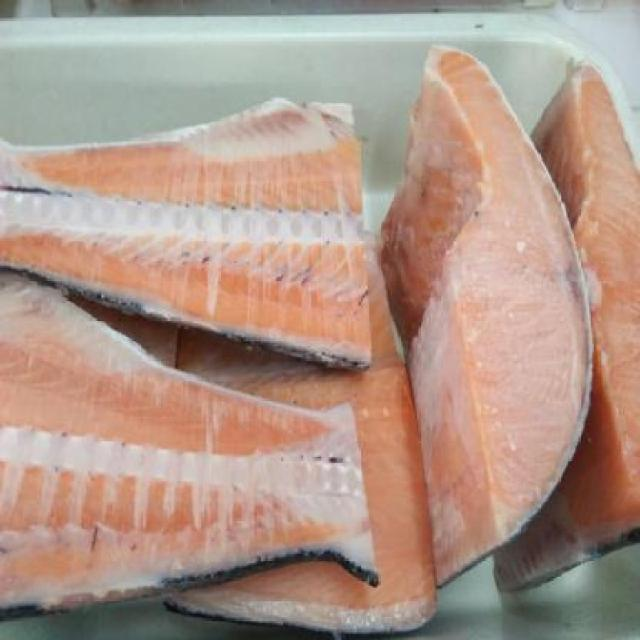salmon: (8, 188, 448, 639), (1, 260, 382, 622), (375, 28, 608, 572), (3, 75, 377, 378), (494, 54, 640, 601)
